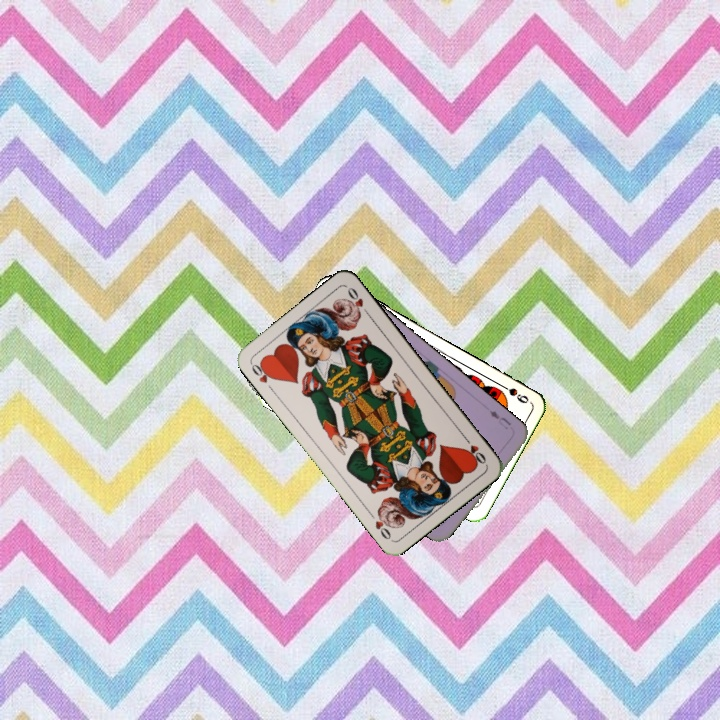EU: (485, 406, 514, 432)
HO: (247, 358, 277, 394), (460, 432, 489, 467)
S9: (495, 379, 531, 406)
